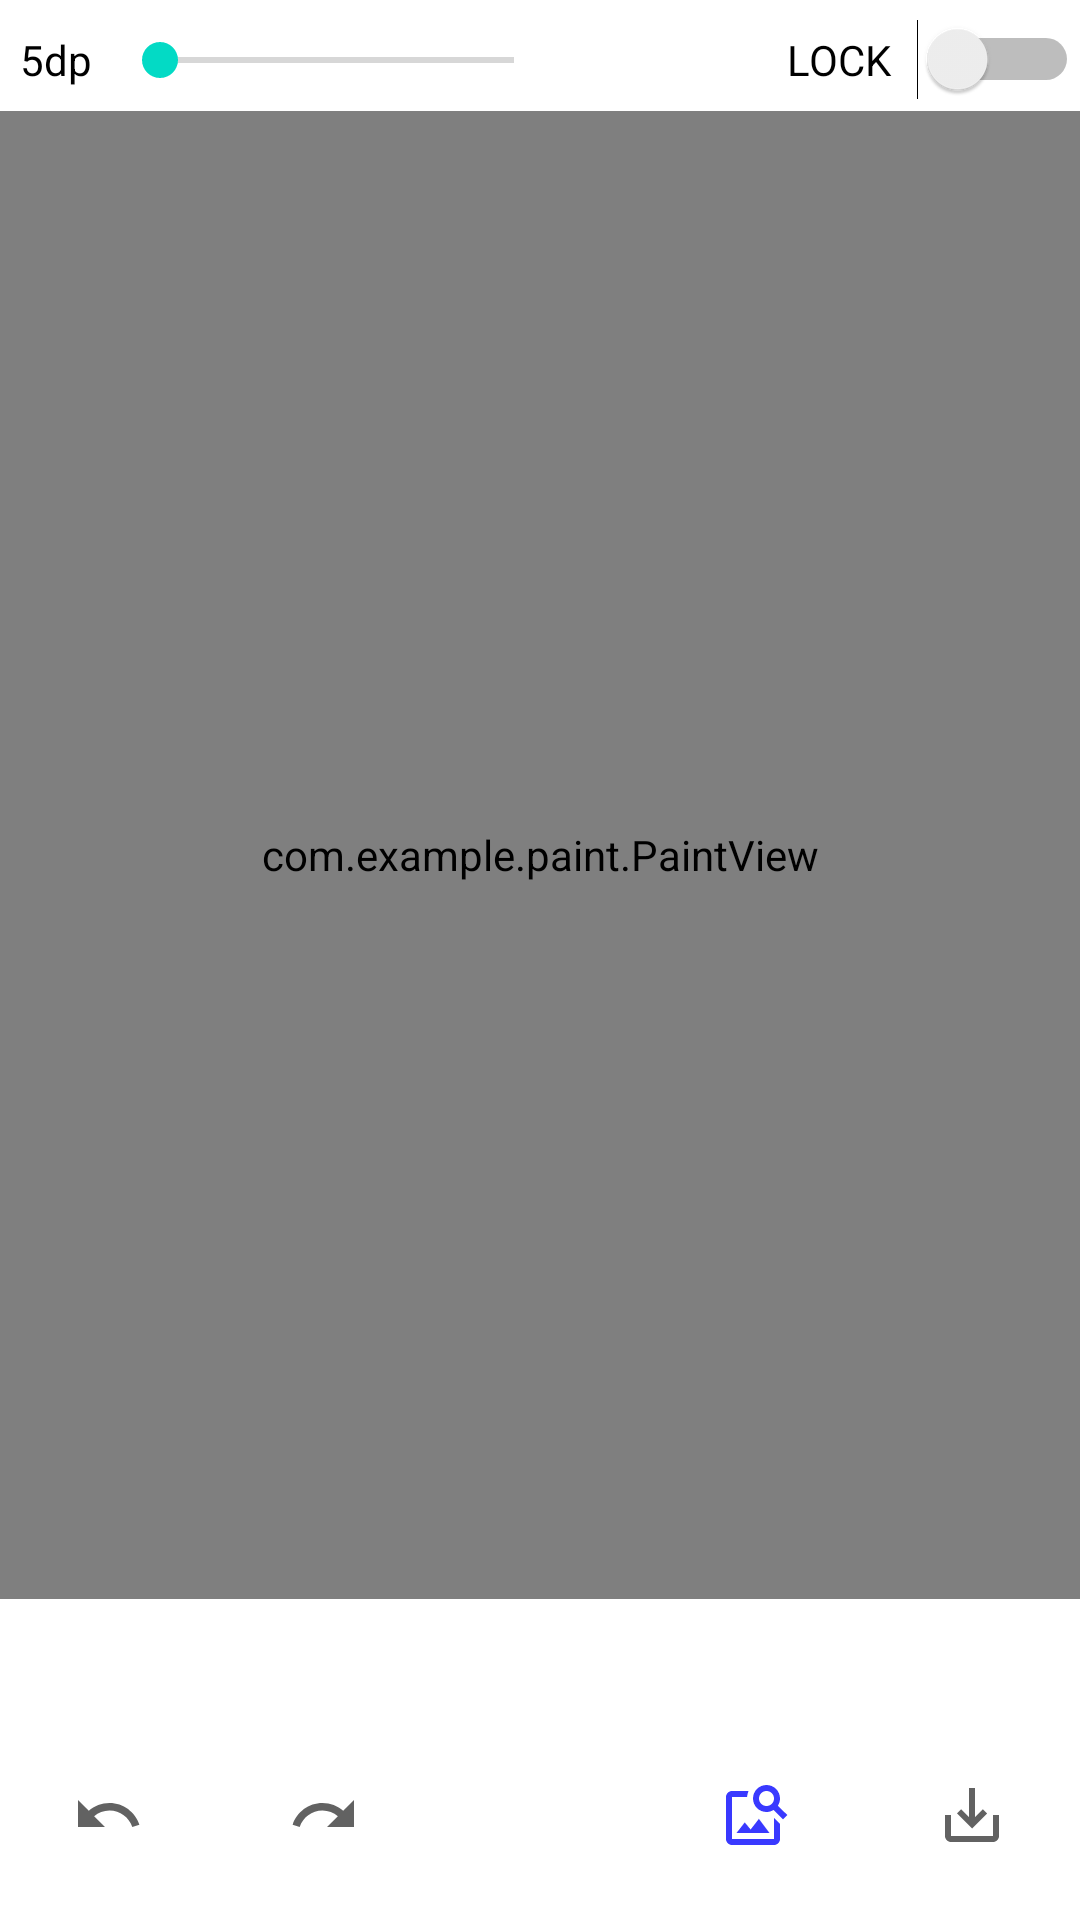

Locate icon controls on the screen. Image size 1080w x 1920h, boxes as (x1=x1, y1=y1, x2=x2, y2=y2).
redo: (x1=292, y1=1800, x2=354, y2=1827)
save: (x1=945, y1=1788, x2=999, y2=1842)
search: (x1=726, y1=1785, x2=787, y2=1845)
undo: (x1=78, y1=1800, x2=140, y2=1827)
